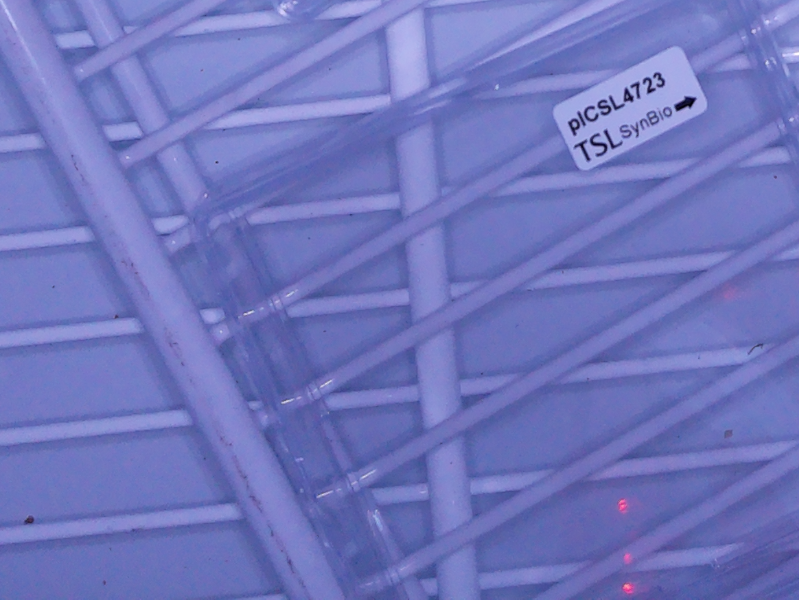plate: (187, 1, 799, 600)
